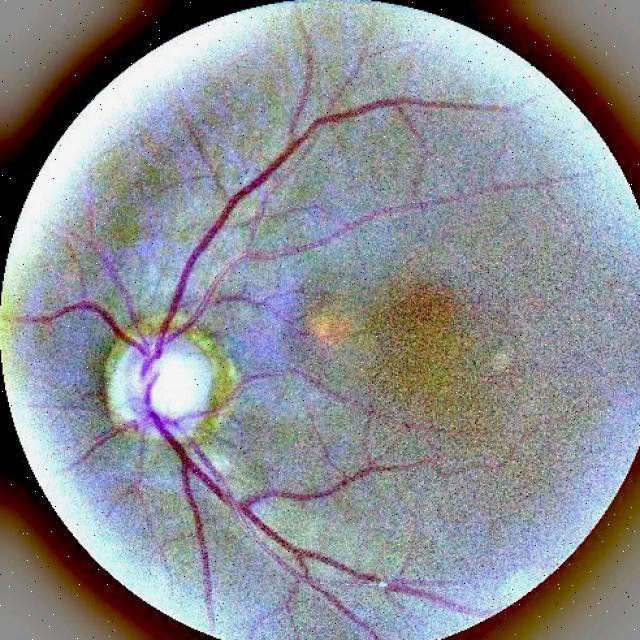Macula: (394, 272, 455, 328)
Nerves: (14, 98, 503, 640)
Optic Disk: (108, 335, 215, 438)
